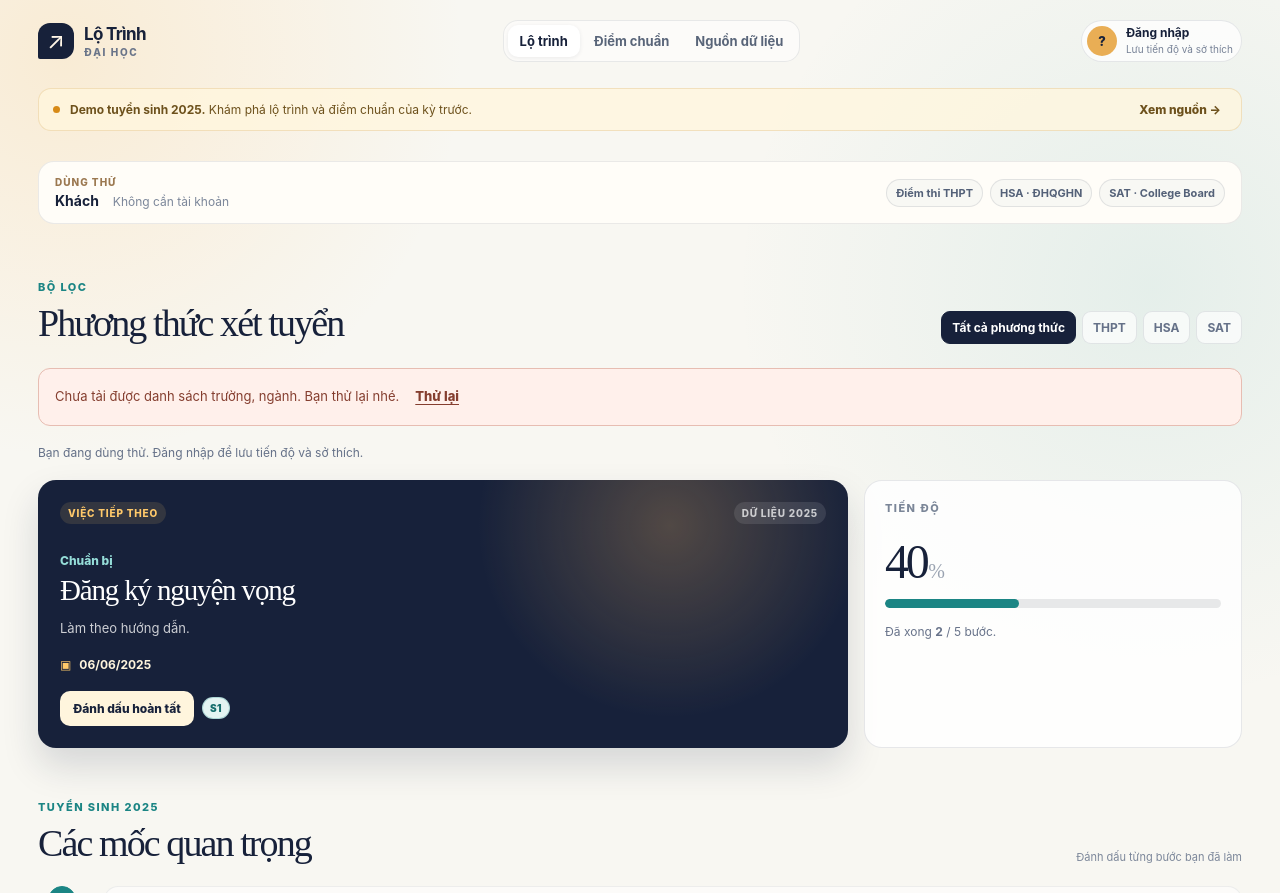
Test: admissions demo flows › keeps browsing usable when the catalog response is malformed
expect the message "Chưa tải được danh sách trường, ngành. Bạn thử lại nhé. Thử lại" is shown: met, box 38,368 -> 1242,426
Click the button "Điểm chuẩn": (632,41) 582,25 -> 681,57
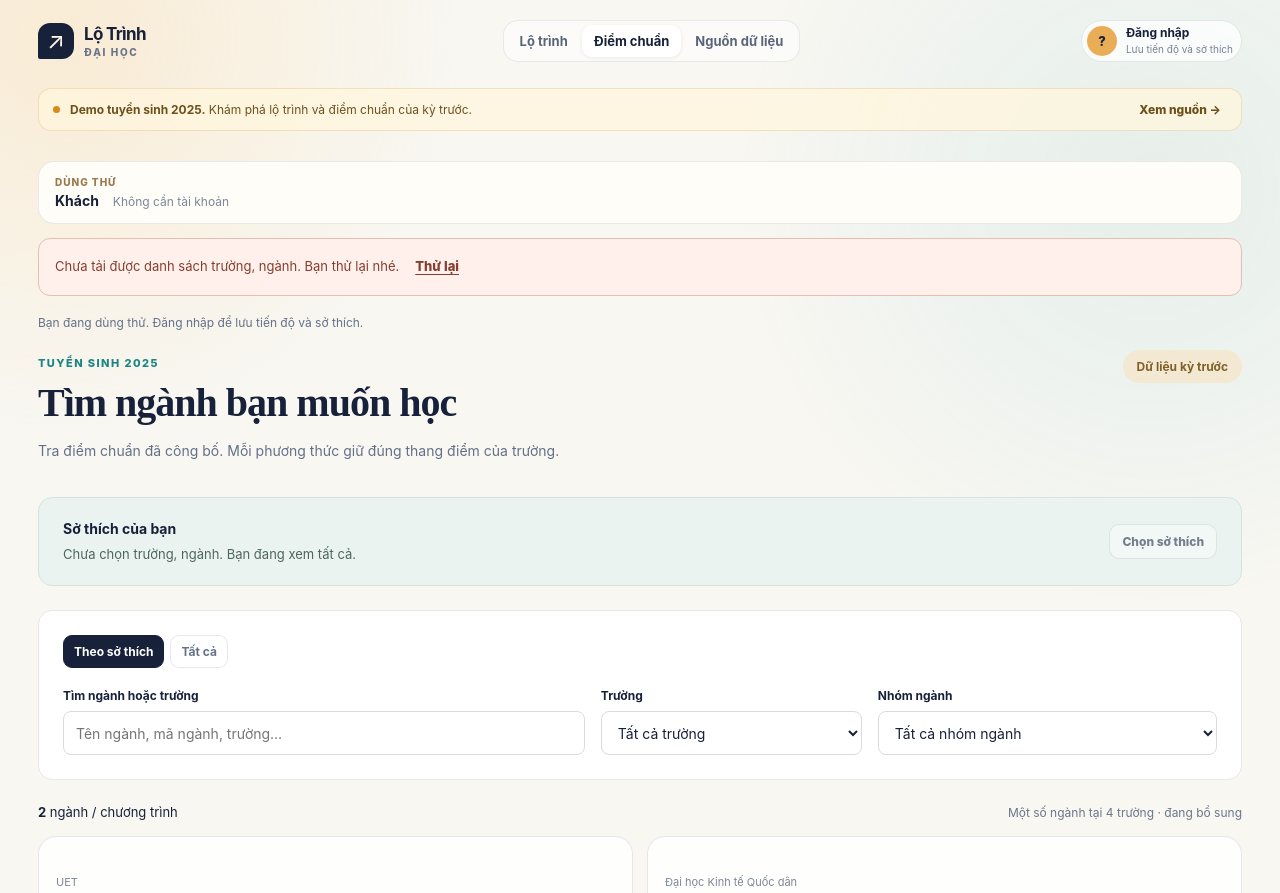
expect the button "Chọn sở thích" is disabled: met, box 1109,524 -> 1217,559
